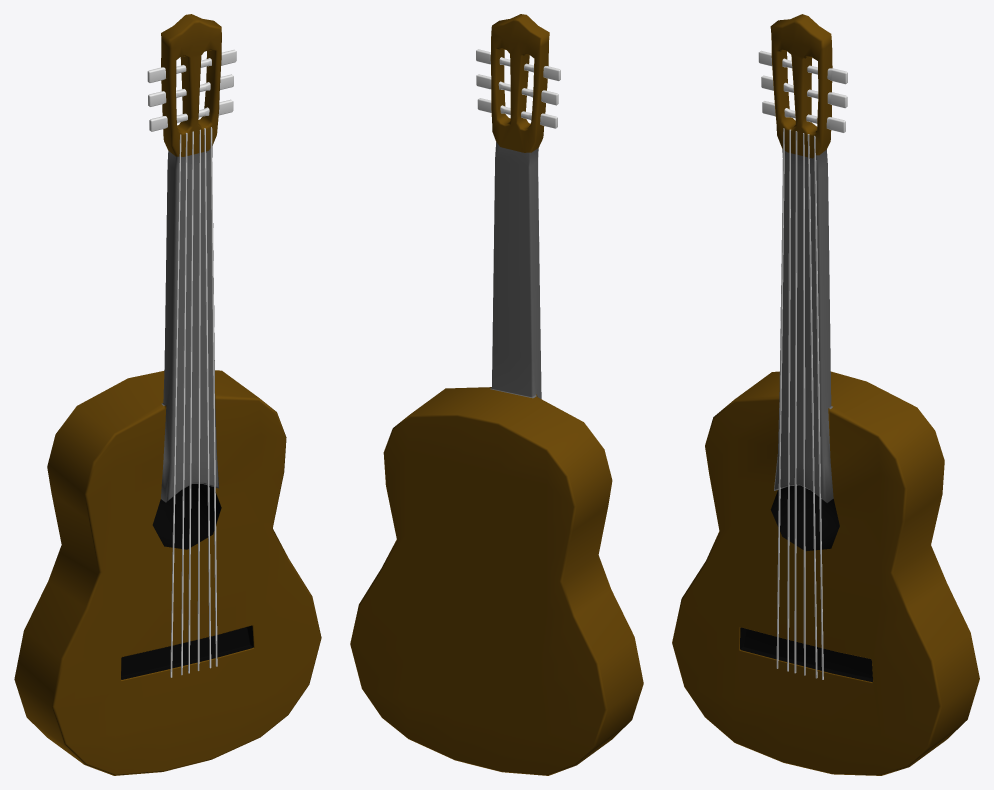
The model's file is M_Guitar_4.fbx.
3 views of the same model, side by side, from view 1: azimuth 30°, elevation 25°; view 2: azimuth 150°, elevation 25°; view 3: azimuth 330°, elevation 25° (orthographic). The views are drawn at different scales.
Visible parts, largest first — view 1: pCube24; view 2: pCube24; view 3: pCube24.
Part boxes in pixels (box(x1,y1,x2,y2)): pCube24: box(14, 14, 321, 775); pCube24: box(350, 14, 643, 775); pCube24: box(672, 14, 979, 775).
Bounding box in the file's own units: 3.91 × 10.44 × 1.24.
